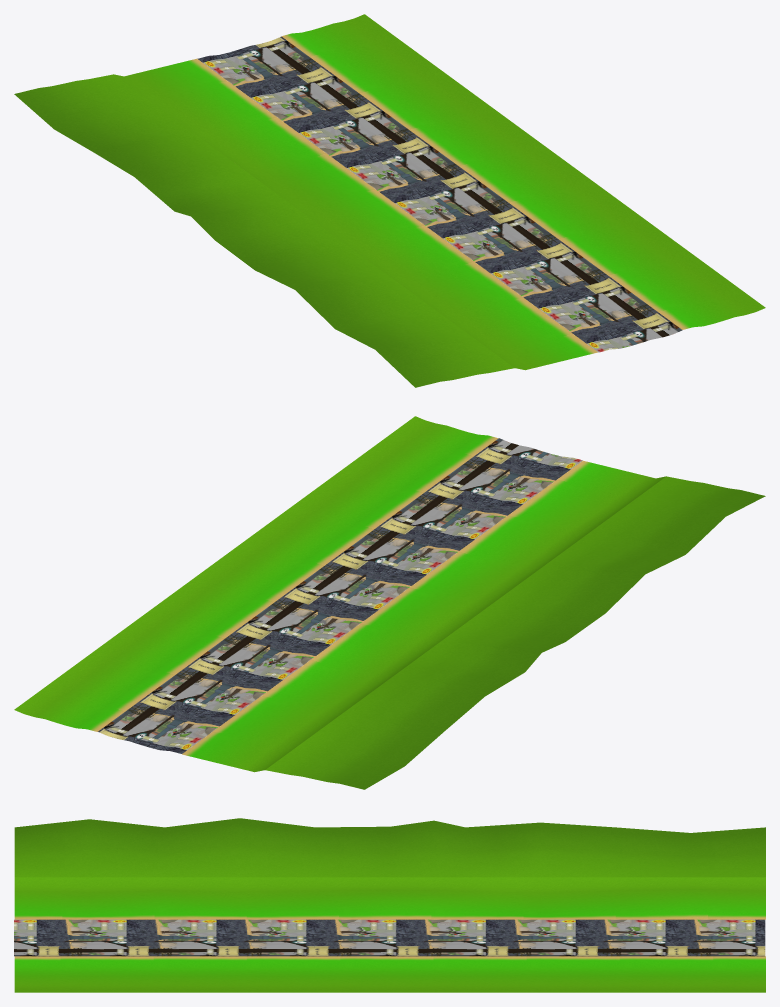
The model's file is Level_2_ground.fbx.
3 views of the same model, one above another, from view 1: azimuth 30°, elevation 25°; view 2: azimuth 150°, elevation 25°; view 3: azimuth 270°, elevation 25° (orthographic). The views are drawn at different scales.
Parts seen in each view (by area): view 1: Level_2_ground; view 2: Level_2_ground; view 3: Level_2_ground.
Part boxes in pixels (x1,y1,x2,y2): Level_2_ground: [14, 14, 765, 387]; Level_2_ground: [14, 416, 765, 789]; Level_2_ground: [14, 818, 765, 992].
Bounding box in the file's own units: 25.22 × 1.49 × 50.04.
